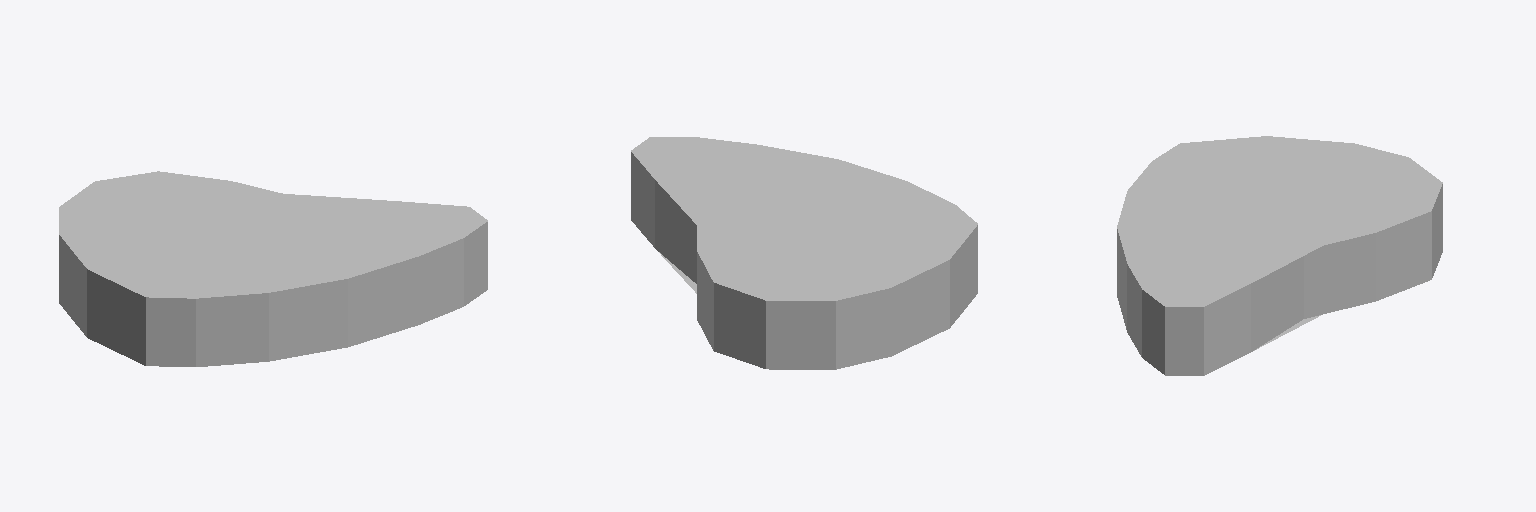
Rendered from FloorRock5.obj.
The picture shows the model from 3 angles: view 1: azimuth 30°, elevation 25°; view 2: azimuth 150°, elevation 25°; view 3: azimuth 270°, elevation 25°; orthographic projection.
Visible parts, largest first — view 1: Circle.003; view 2: Circle.003; view 3: Circle.003.
Part boxes in pixels (left/top/right/bottom): Circle.003: left=59, top=171, right=487, bottom=366; Circle.003: left=631, top=137, right=977, bottom=369; Circle.003: left=1117, top=136, right=1442, bottom=375.
Bounding box in the file's own units: 5.34 × 1 × 4.3.